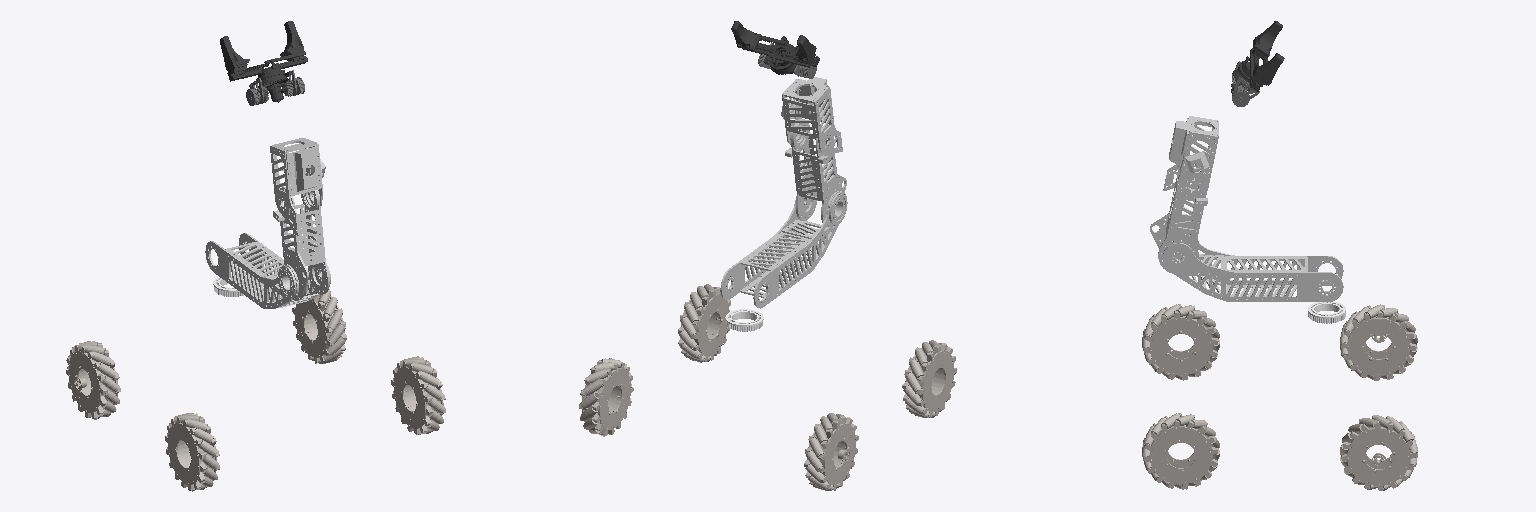
The robot description file, URDF, robot "engineer":
<?xml version="1.0" encoding="utf-8"?>
<!-- This URDF was automatically created by SolidWorks to URDF Exporter! Originally created by Stephen Brawner (brawner@gmail.com) 
     Commit Version:   Build Version: 1.6.9655.37020
     For more information, please see http://wiki.ros.org/sw_urdf_exporter -->
<robot
  name="engineer">
  <link
    name="base_link">
    <inertial>
      <origin
        xyz="0.234710978236579 -0.171239724128542 0.116224161893916"
        rpy="0 0 0" />
      <mass
        value="6.31580497595873" />
      <inertia
        ixx="0.0229487473589501"
        ixy="-2.4413576966852E-06"
        ixz="-5.34812780582184E-06"
        iyy="0.0359517333717167"
        iyz="-0.00070039094668895"
        izz="0.0541508205788101" />
    </inertial>
    <visual>
      <origin
        xyz="0 0 0"
        rpy="0 0 0" />
      <geometry>
        <mesh
          filename="package://engineer/meshes/base_link.STL" />
      </geometry>
      <material
        name="">
        <color
          rgba="0.898039215686275 0.917647058823529 0.929411764705882 1" />
      </material>
    </visual>
    <collision>
      <origin
        xyz="0 0 0"
        rpy="0 0 0" />
      <geometry>
        <mesh
          filename="package://engineer/meshes/base_link.STL" />
      </geometry>
    </collision>
  </link>
  <link
    name="link1">
    <inertial>
      <origin
        xyz="5.68171413528606E-08 1.25219814938599E-06 0.0201045349315822"
        rpy="0 0 0" />
      <mass
        value="0.388221025887492" />
      <inertia
        ixx="0.000729838074672889"
        ixy="-8.28505424435677E-10"
        ixz="7.57997442302712E-09"
        iyy="0.000729844759579318"
        iyz="3.01122130522218E-10"
        izz="0.00135019113386282" />
    </inertial>
    <visual>
      <origin
        xyz="0 0 0"
        rpy="0 0 0" />
      <geometry>
        <mesh
          filename="package://engineer/meshes/link1.STL" />
      </geometry>
      <material
        name="">
        <color
          rgba="0.776470588235294 0.756862745098039 0.737254901960784 1" />
      </material>
    </visual>
    <collision>
      <origin
        xyz="0 0 0"
        rpy="0 0 0" />
      <geometry>
        <mesh
          filename="package://engineer/meshes/link1.STL" />
      </geometry>
    </collision>
  </link>
  <joint
    name="joint1"
    type="continuous">
    <origin
      xyz="-0.028073 -0.048012 0.024886"
      rpy="1.5708 0 1.5708" />
    <parent
      link="base_link" />
    <child
      link="link1" />
    <axis
      xyz="0 0 -1" />
  </joint>
  <link
    name="link2">
    <inertial>
      <origin
        xyz="1.20015969966997E-06 -3.52048079910183E-07 -0.0190233424563439"
        rpy="0 0 0" />
      <mass
        value="0.388217210164063" />
      <inertia
        ixx="0.000729842021492152"
        ixy="-8.10933957210516E-10"
        ixz="6.65728945677958E-09"
        iyy="0.00072983536964258"
        iyz="-5.30282066744672E-09"
        izz="0.0013501875233046" />
    </inertial>
    <visual>
      <origin
        xyz="0 0 0"
        rpy="0 0 0" />
      <geometry>
        <mesh
          filename="package://engineer/meshes/link2.STL" />
      </geometry>
      <material
        name="">
        <color
          rgba="0.776470588235294 0.756862745098039 0.737254901960784 1" />
      </material>
    </visual>
    <collision>
      <origin
        xyz="0 0 0"
        rpy="0 0 0" />
      <geometry>
        <mesh
          filename="package://engineer/meshes/link2.STL" />
      </geometry>
    </collision>
  </link>
  <joint
    name="joint2"
    type="continuous">
    <origin
      xyz="0.52673 -0.047911 0.024874"
      rpy="1.5708 0 1.5708" />
    <parent
      link="base_link" />
    <child
      link="link2" />
    <axis
      xyz="0 0 1" />
  </joint>
  <link
    name="link3">
    <inertial>
      <origin
        xyz="1.47954383689086E-07 1.06847528345833E-06 -0.0294251113825765"
        rpy="0 0 0" />
      <mass
        value="0.384208721014785" />
      <inertia
        ixx="0.000729505883301047"
        ixy="3.78820992664609E-09"
        ixz="6.26146757147414E-09"
        iyy="0.000729501536827234"
        iyz="-4.28012316565514E-09"
        izz="0.00134981754504203" />
    </inertial>
    <visual>
      <origin
        xyz="0 0 0"
        rpy="0 0 0" />
      <geometry>
        <mesh
          filename="package://engineer/meshes/link3.STL" />
      </geometry>
      <material
        name="">
        <color
          rgba="0.776470588235294 0.756862745098039 0.737254901960784 1" />
      </material>
    </visual>
    <collision>
      <origin
        xyz="0 0 0"
        rpy="0 0 0" />
      <geometry>
        <mesh
          filename="package://engineer/meshes/link3.STL" />
      </geometry>
    </collision>
  </link>
  <joint
    name="joint3"
    type="continuous">
    <origin
      xyz="-0.036723 -0.43743 0.026008"
      rpy="-1.5708 0 1.5708" />
    <parent
      link="base_link" />
    <child
      link="link3" />
    <axis
      xyz="0 0 1" />
  </joint>
  <link
    name="link4">
    <inertial>
      <origin
        xyz="-4.54392188431463E-07 9.78281912832057E-07 -0.0294251113815071"
        rpy="0 0 0" />
      <mass
        value="0.384208721258754" />
      <inertia
        ixx="0.000729501158654186"
        ixy="3.54440095180781E-09"
        ixz="7.58173337795083E-09"
        iyy="0.000729506262014361"
        iyz="-2.06205752043551E-10"
        izz="0.00134981754552728" />
    </inertial>
    <visual>
      <origin
        xyz="0 0 0"
        rpy="0 0 0" />
      <geometry>
        <mesh
          filename="package://engineer/meshes/link4.STL" />
      </geometry>
      <material
        name="">
        <color
          rgba="0.776470588235294 0.756862745098039 0.737254901960784 1" />
      </material>
    </visual>
    <collision>
      <origin
        xyz="0 0 0"
        rpy="0 0 0" />
      <geometry>
        <mesh
          filename="package://engineer/meshes/link4.STL" />
      </geometry>
    </collision>
  </link>
  <joint
    name="joint4"
    type="continuous">
    <origin
      xyz="0.53538 -0.4375 0.028073"
      rpy="1.5708 0 1.5708" />
    <parent
      link="base_link" />
    <child
      link="link4" />
    <axis
      xyz="0 0 1" />
  </joint>
  <link
    name="link5">
    <inertial>
      <origin
        xyz="0 0 0"
        rpy="0 0 0" />
      <mass
        value="0" />
      <inertia
        ixx="0"
        ixy="0"
        ixz="0"
        iyy="0"
        iyz="0"
        izz="0" />
    </inertial>
    <visual>
      <origin
        xyz="0 0 0"
        rpy="0 0 0" />
      <geometry>
        <mesh
          filename="package://engineer/meshes/link5.STL" />
      </geometry>
      <material
        name="">
        <color
          rgba="1 1 1 1" />
      </material>
    </visual>
    <collision>
      <origin
        xyz="0 0 0"
        rpy="0 0 0" />
      <geometry>
        <mesh
          filename="package://engineer/meshes/link5.STL" />
      </geometry>
    </collision>
  </link>
  <joint
    name="joint5"
    type="revolute">
    <origin
      xyz="0.24933 -0.15 0.19895"
      rpy="0 0 0" />
    <parent
      link="base_link" />
    <child
      link="link5" />
    <axis
      xyz="0 0 1" />
    <limit lower = "-2.012365" upper = "3.886848"
    effort = "100" velocity = "1.0" />
  </joint>
  <link
    name="link6">
    <inertial>
      <origin
        xyz="0.167753906217194 0.0159552309334949 0.0495925104228964"
        rpy="0 0 0" />
      <mass
        value="0.525310717288306" />
      <inertia
        ixx="0.000371627985127472"
        ixy="-0.000521642743277703"
        ixz="-2.21236045209412E-07"
        iyy="0.00364909075697093"
        iyz="-3.75524804406657E-07"
        izz="0.00385184265629974" />
    </inertial>
    <visual>
      <origin
        xyz="0 0 0"
        rpy="0 0 0" />
      <geometry>
        <mesh
          filename="package://engineer/meshes/link6.STL" />
      </geometry>
      <material
        name="">
        <color
          rgba="0.847058823529412 0.847058823529412 0.847058823529412 1" />
      </material>
    </visual>
    <collision>
      <origin
        xyz="0 0 0"
        rpy="0 0 0" />
      <geometry>
        <mesh
          filename="package://engineer/meshes/link6.STL" />
      </geometry>
    </collision>
  </link>
  <joint
    name="joint6"
    type="revolute">
    <origin
      xyz="0.04475 0.00011722 0.083117"
      rpy="1.5708 0 -1.5708" />
    <parent
      link="link5" />
    <child
      link="link6" />
    <axis
      xyz="0 0 1" />
    <limit lower = "0" upper = "1.832596" effort = "100" velocity = "1.0" />
  </joint>
  <link
    name="link7">
    <inertial>
      <origin
        xyz="0.0778209776759845 0.00690288593523403 -0.0494610147582692"
        rpy="0 0 0" />
      <mass
        value="0.30096018429323" />
      <inertia
        ixx="0.000126082946107919"
        ixy="-4.67419628849896E-05"
        ixz="6.33998362350913E-07"
        iyy="0.000826742903139903"
        iyz="5.38371896997607E-08"
        izz="0.000929127598004201" />
    </inertial>
    <visual>
      <origin
        xyz="0 0 0"
        rpy="0 0 0" />
      <geometry>
        <mesh
          filename="package://engineer/meshes/link7.STL" />
      </geometry>
      <material
        name="">
        <color
          rgba="0.847058823529412 0.847058823529412 0.847058823529412 1" />
      </material>
    </visual>
    <collision>
      <origin
        xyz="0 0 0"
        rpy="0 0 0" />
      <geometry>
        <mesh
          filename="package://engineer/meshes/link7.STL" />
      </geometry>
    </collision>
  </link>
  <joint
    name="joint7"
    type="revolute">
    <origin
      xyz="0.29299 0.064883 -0.006"
      rpy="-3.1416 0 3.1416" />
    <parent
      link="link6" />
    <child
      link="link7" />
    <axis
      xyz="0 0 1" />
    <limit lower = "0.017453" upper = "2.583087" effort = "100" velocity = "1.0" />
  </joint>
  <link
    name="link8">
    <inertial>
      <origin
        xyz="0.0561061966268404 -0.0122957084500727 -0.057297386910134"
        rpy="0 0 0" />
      <mass
        value="0.192796139676654" />
      <inertia
        ixx="9.42494368542429E-05"
        ixy="-3.99719030450481E-06"
        ixz="-4.25185966442785E-07"
        iyy="0.000251955902325382"
        iyz="2.73181608095733E-08"
        izz="0.000259125663147528" />
    </inertial>
    <visual>
      <origin
        xyz="0 0 0"
        rpy="0 0 0" />
      <geometry>
        <mesh
          filename="package://engineer/meshes/link8.STL" />
      </geometry>
      <material
        name="">
        <color
          rgba="0.847058823529412 0.847058823529412 0.847058823529412 1" />
      </material>
    </visual>
    <collision>
      <origin
        xyz="0 0 0"
        rpy="0 0 0" />
      <geometry>
        <mesh
          filename="package://engineer/meshes/link8.STL" />
      </geometry>
    </collision>
  </link>
  <joint
    name="joint8"
    type="revolute">
    <origin
      xyz="0.15943 0.013538 -0.109"
      rpy="-3.1416 0 0" />
    <parent
      link="link7" />
    <child
      link="link8" />
    <axis
      xyz="0 0 -1" />
    <limit lower = "-1.326450" upper = "0.0" effort = "100" velocity = "1.0" />
  </joint>
  <link
    name="link9">
    <inertial>
      <origin
        xyz="-0.00056140122757331 0.00025776249721482 -0.0327772838467792"
        rpy="0 0 0" />
      <mass
        value="0.130833847334764" />
      <inertia
        ixx="3.56298600545339E-05"
        ixy="8.5225387213713E-08"
        ixz="1.1424300082287E-08"
        iyy="3.60143399694012E-05"
        iyz="-9.16853074132645E-13"
        izz="4.663715290081E-05" />
    </inertial>
    <visual>
      <origin
        xyz="0 0 0"
        rpy="0 0 0" />
      <geometry>
        <mesh
          filename="package://engineer/meshes/link9.STL" />
      </geometry>
      <material
        name="">
        <color
          rgba="1 1 1 1" />
      </material>
    </visual>
    <collision>
      <origin
        xyz="0 0 0"
        rpy="0 0 0" />
      <geometry>
        <mesh
          filename="package://engineer/meshes/link9.STL" />
      </geometry>
    </collision>
  </link>
  <joint
    name="joint9"
    type="revolute">
    <origin
      xyz="0.11955 -0.01043 -0.058849"
      rpy="0.084714 1.5708 0" />
    <parent
      link="link8" />
    <child
      link="link9" />
    <axis
      xyz="0 0 -1" />
    <limit lower = "-5.63683" upper = "0.05236" effort = "100" velocity = "1.0" />
  </joint>
  <link
    name="link10">
    <inertial>
      <origin
        xyz="0.00167362185354275 0.000376702799306239 -0.0569982431188537"
        rpy="0 0 0" />
      <mass
        value="0.0423715488885861" />
      <inertia
        ixx="4.04478972714395E-06"
        ixy="-2.08022521898921E-08"
        ixz="1.05357875726818E-18"
        iyy="3.9696419014664E-06"
        iyz="2.2947793111464E-18"
        izz="6.85864521192154E-06" />
    </inertial>
    <visual>
      <origin
        xyz="0 0 0"
        rpy="0 0 0" />
      <geometry>
        <mesh
          filename="package://engineer/meshes/link10.STL" />
      </geometry>
      <material
        name="">
        <color
          rgba="0.498039215686275 0.498039215686275 0.498039215686275 1" />
      </material>
    </visual>
    <collision>
      <origin
        xyz="0 0 0"
        rpy="0 0 0" />
      <geometry>
        <mesh
          filename="package://engineer/meshes/link10.STL" />
      </geometry>
    </collision>
  </link>
  <joint
    name="joint10"
    type="revolute">
    <origin
      xyz="-0.057549 0.056189 0.09"
      rpy="-1.5708 -1.30824 1.5708" />
    <parent
      link="link9" />
    <child
      link="link10" />
    <axis
      xyz="0 0 -1" />
    <limit lower = "-1.5708" upper = "1.5707963" effort = "100" velocity = "1.0" />
  </joint>
  <link
    name="link11">
    <inertial>
      <origin
        xyz="0.00034209 -0.00020094 0.050424"
        rpy="0 0 0" />
      <mass
        value="0.50252" />
      <inertia
        ixx="0.00015462"
        ixy="-6.0728E-07"
        ixz="7.4393E-10"
        iyy="0.00047321"
        iyz="-1.2314E-09"
        izz="0.00044366" />
    </inertial>
    <visual>
      <origin
        xyz="0 0 0"
        rpy="0 0 0" />
      <geometry>
        <mesh
          filename="package://engineer/meshes/link11.STL" />
      </geometry>
      <material
        name="">
        <color
          rgba="0.29804 0.29804 0.29804 1" />
      </material>
    </visual>
    <collision>
      <origin
        xyz="0 0 0"
        rpy="0 0 0" />
      <geometry>
        <mesh
          filename="package://engineer/meshes/link11.STL" />
      </geometry>
    </collision>
  </link>
  <joint
    name="joint11"
    type="revolute">
    <origin
      xyz="0.0064739 0.0012841 -0.05705"
      rpy="-0.1958 1.5708 0" />
    <parent
      link="link10" />
    <child
      link="link11" />
    <axis
      xyz="0 0 -1" />
    <limit lower = "-3.909538" upper = "1.570796" effort = "100" velocity = "1.0" />
  </joint>
</robot>

--- What the picture shows (computed from the rendered views, not written in the file) ---
3 views of the same robot in one strip: view 1: azimuth 30°, elevation 25°; view 2: azimuth 150°, elevation 25°; view 3: azimuth 270°, elevation 25° (orthographic).
Robot: engineer — 12 links, 11 joints (7 revolute, 4 continuous); root link base_link; default pose: all joints at 0 but 1 set to mid-range because 0 is outside their limits (joint7 = 1.3).
Visible links, largest first — view 1: link6, link1, link3, link4, link7, link8, link2, link11, link10; view 2: link6, link2, link1, link3, link4, link7, link8, link11, link5; view 3: link6, link2, link1, link4, link3, link8, link7, link11, link5.
Boxes of the visible links, bbox=[...] form: link6: bbox=[205, 233, 330, 308]; link1: bbox=[66, 341, 120, 419]; link3: bbox=[165, 413, 219, 491]; link4: bbox=[391, 356, 445, 434]; link7: bbox=[273, 187, 329, 300]; link8: bbox=[270, 138, 325, 235]; link2: bbox=[292, 289, 346, 363]; link11: bbox=[220, 21, 307, 102]; link10: bbox=[246, 70, 304, 105]; link6: bbox=[720, 191, 847, 308]; link2: bbox=[579, 358, 633, 436]; link1: bbox=[804, 413, 858, 490]; link3: bbox=[902, 340, 956, 417]; link4: bbox=[678, 284, 730, 362]; link7: bbox=[785, 119, 846, 226]; link8: bbox=[781, 77, 842, 153]; link11: bbox=[731, 21, 819, 74]; link5: bbox=[725, 309, 763, 331]; link6: bbox=[1163, 243, 1343, 301]; link2: bbox=[1340, 415, 1417, 490]; link1: bbox=[1340, 304, 1417, 380]; link4: bbox=[1142, 413, 1219, 489]; link3: bbox=[1142, 304, 1219, 380]; link8: bbox=[1163, 116, 1218, 196]; link7: bbox=[1150, 161, 1208, 272]; link11: bbox=[1231, 21, 1284, 93]; link5: bbox=[1308, 301, 1345, 323].
Bounding box of the posed robot: 0.5859 × 0.5433 × 0.8619 m (x, y, z).
Meshes: 12 distinct files referenced, 10 mesh visuals loaded (10 binary STL); not drawn: 2 (reference not matched to a file when rendering).
